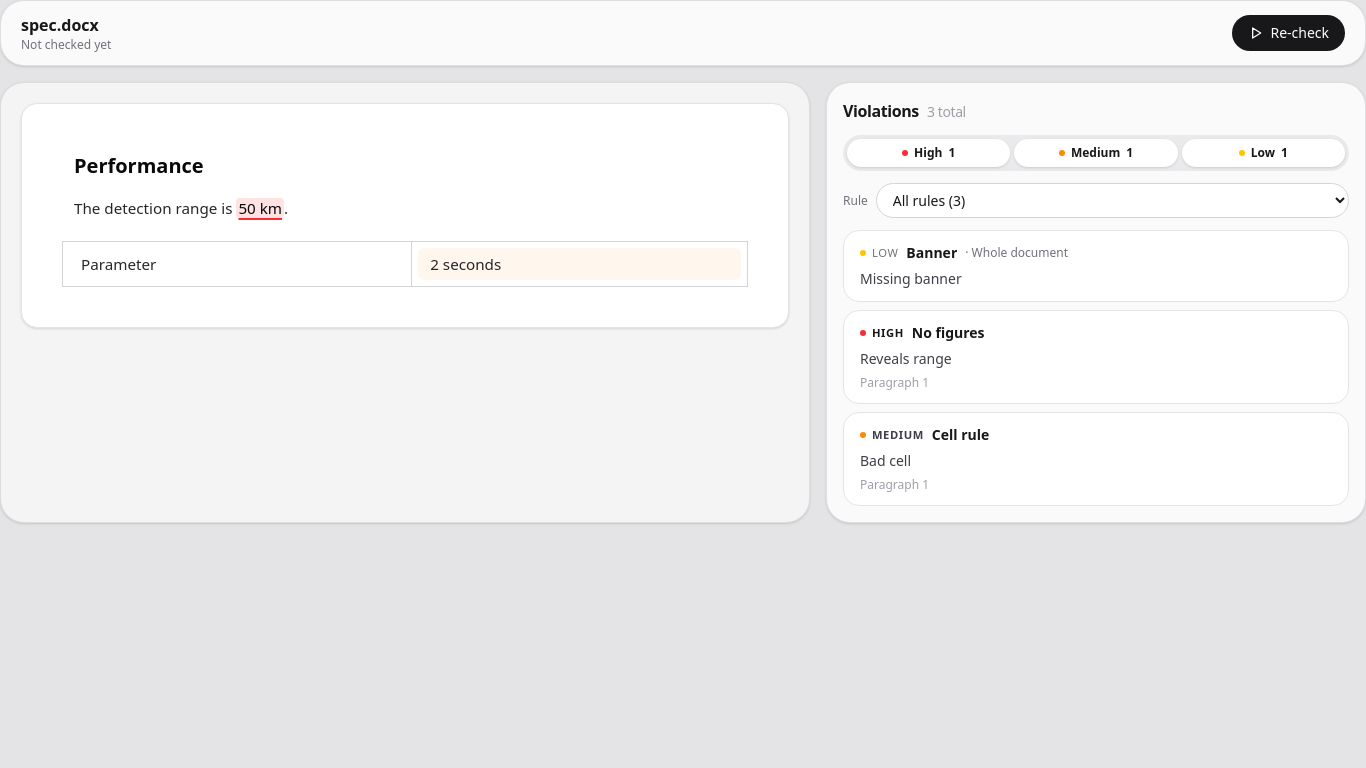
Test: ReportView › filters by rule and updates chip counts
Select "Cell rule (1)" in the dropdown named "Filter by rule" at (1112,200), box [876,183,1349,218]
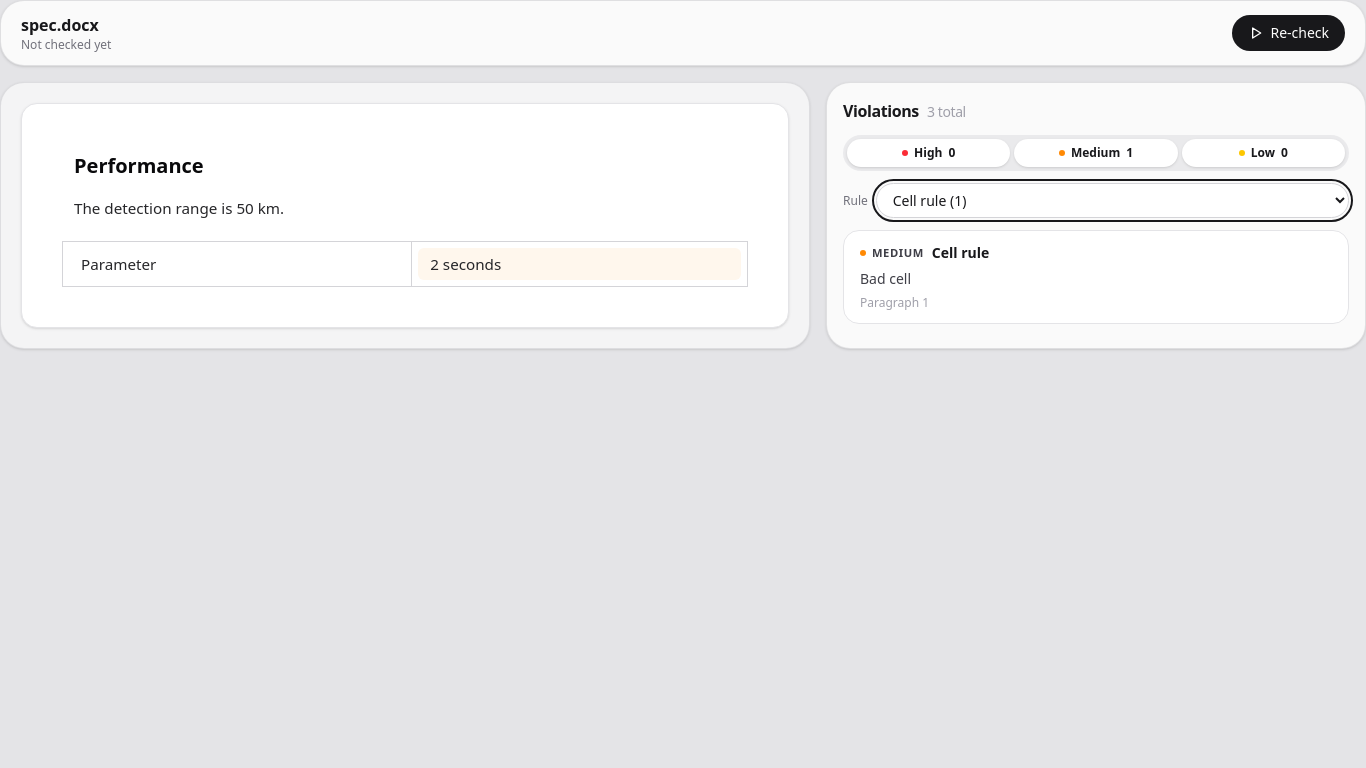
Expected: the button "Medium 1" is shown, [1014,139,1178,167]
Expected: the button "High 0" is shown, [847,139,1010,167]
